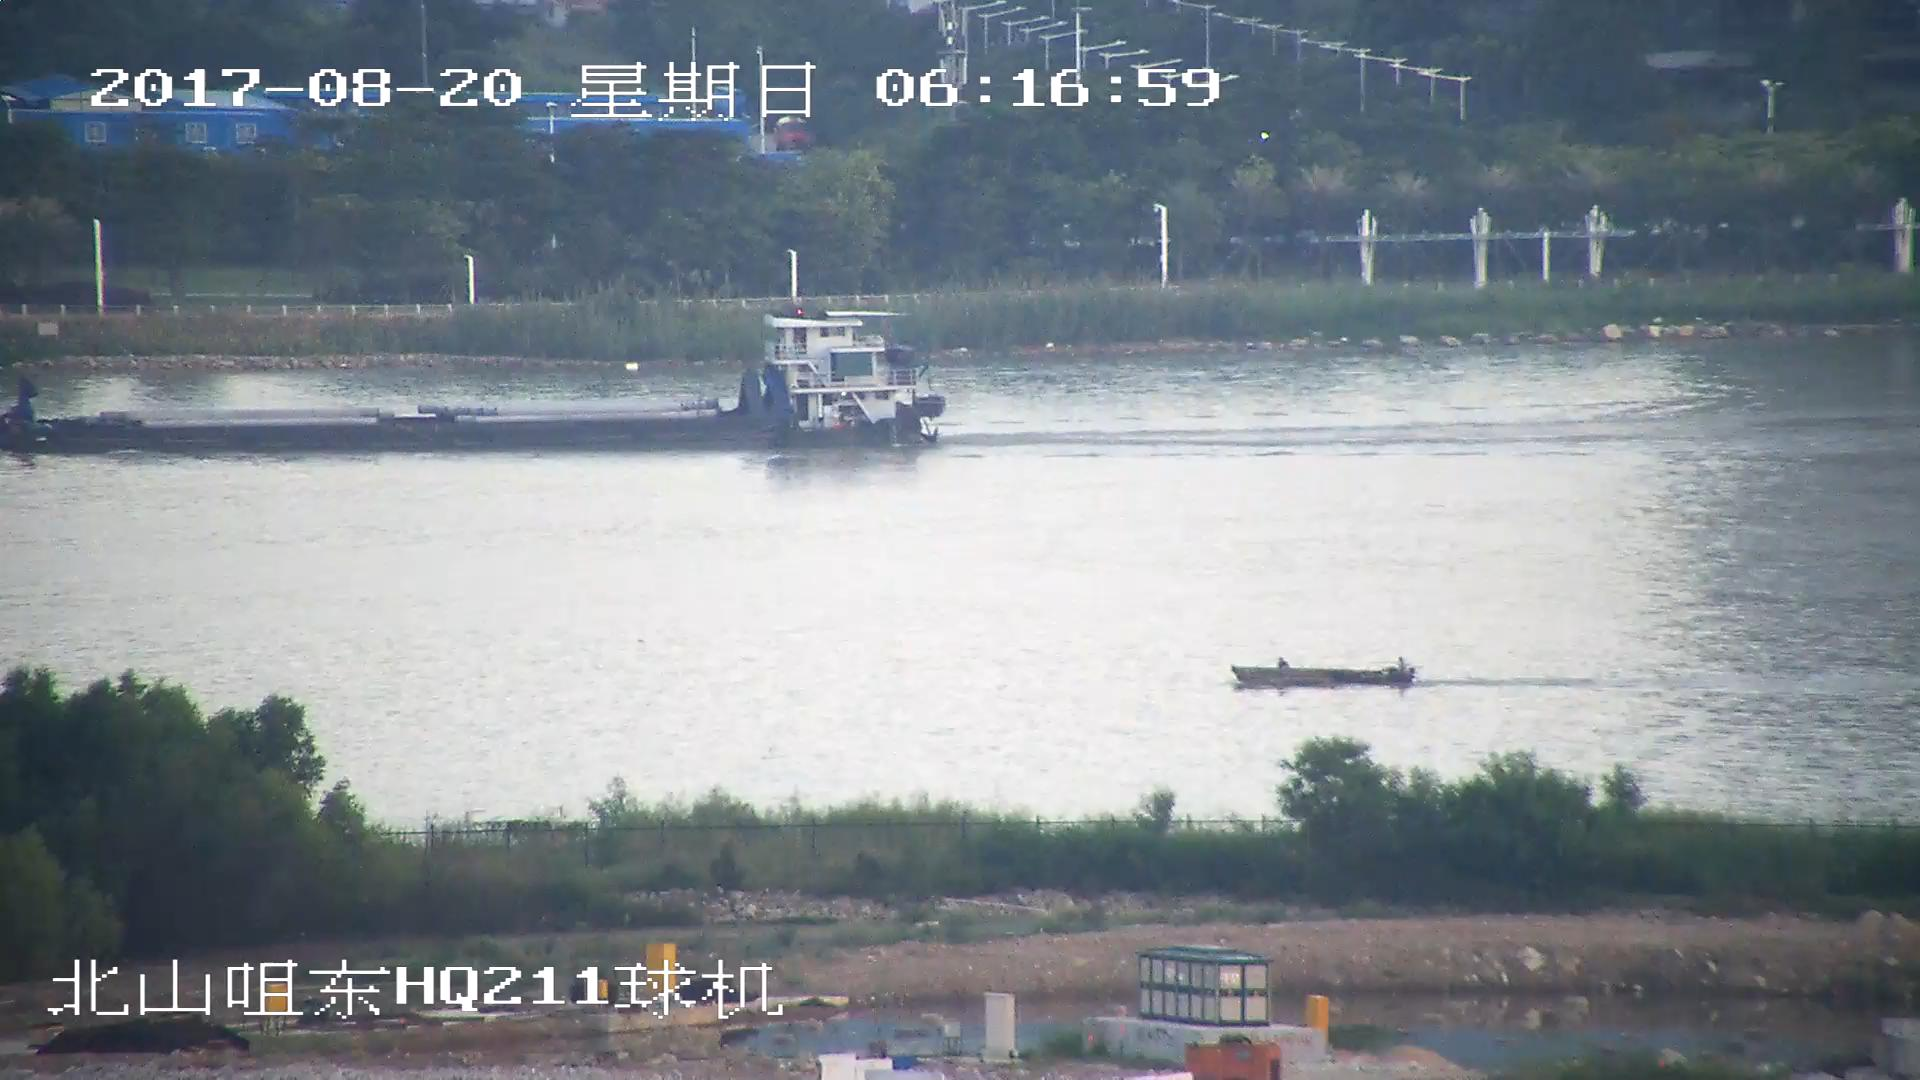bulk cargo carrier: (1, 310, 950, 443)
fishing boat: (1231, 656, 1414, 688)
